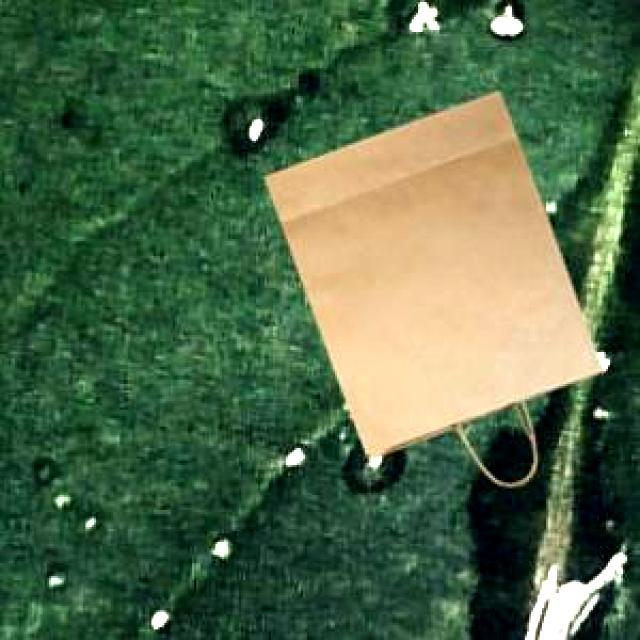Paper_Bag: (262, 89, 598, 484)
